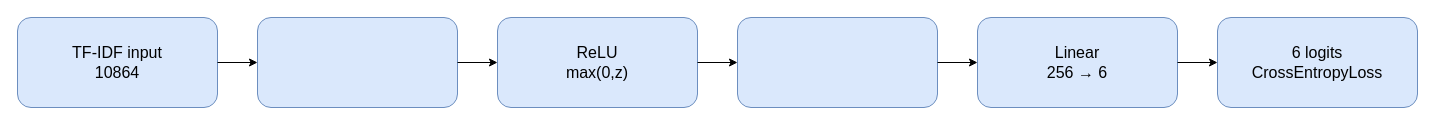
Image size: 1435x125. Some labels were removed from this diagram. The centre of each missing label's shape, as x and y in pixels:
Dropout p=0.2 training only: point (837, 62)
Linear 10864 → 256: point (357, 62)
